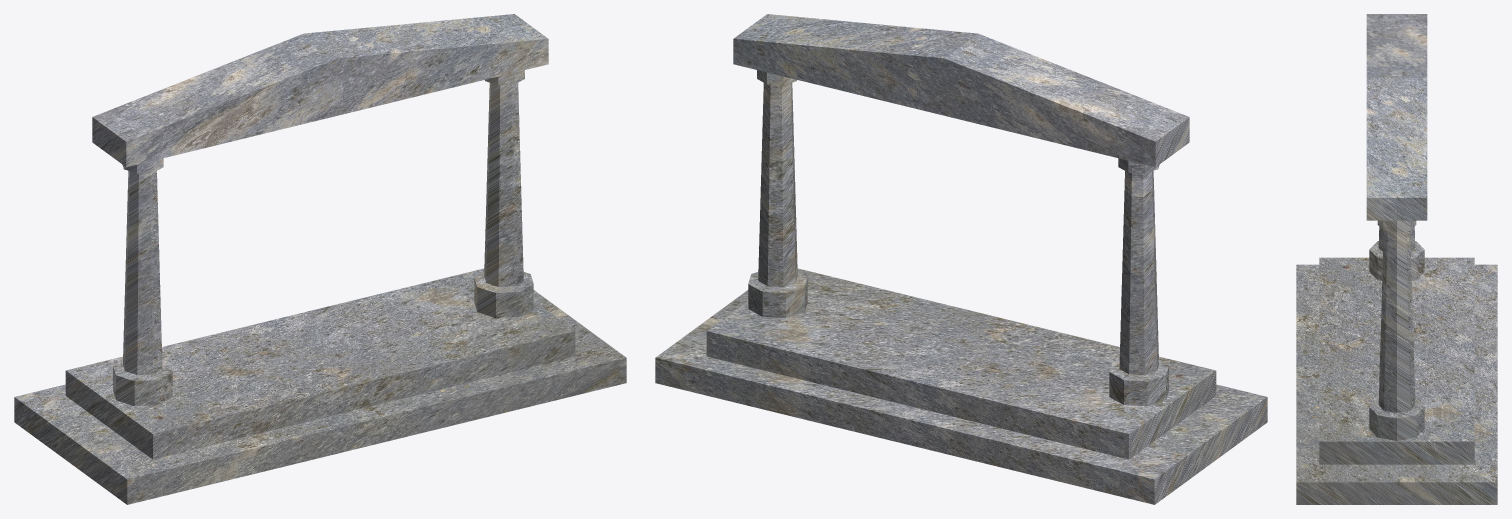
The model's file is indigenous.glb.
3 renders of one model, left to right at view 1: azimuth 30°, elevation 25°; view 2: azimuth 150°, elevation 25°; view 3: azimuth 270°, elevation 25°, orthographic. The views are drawn at different scales.
Visible parts, largest first — view 1: Cube.001; view 2: Cube.001; view 3: Cube.001.
Boxes of the visible parts, x1,y1,x2,y2 form: Cube.001: [14, 14, 626, 504]; Cube.001: [655, 14, 1267, 504]; Cube.001: [1296, 14, 1497, 504].
Bounding box in the file's own units: 6.16 × 4.21 × 2.41.
Materials: 1 (1 with a texture image).
